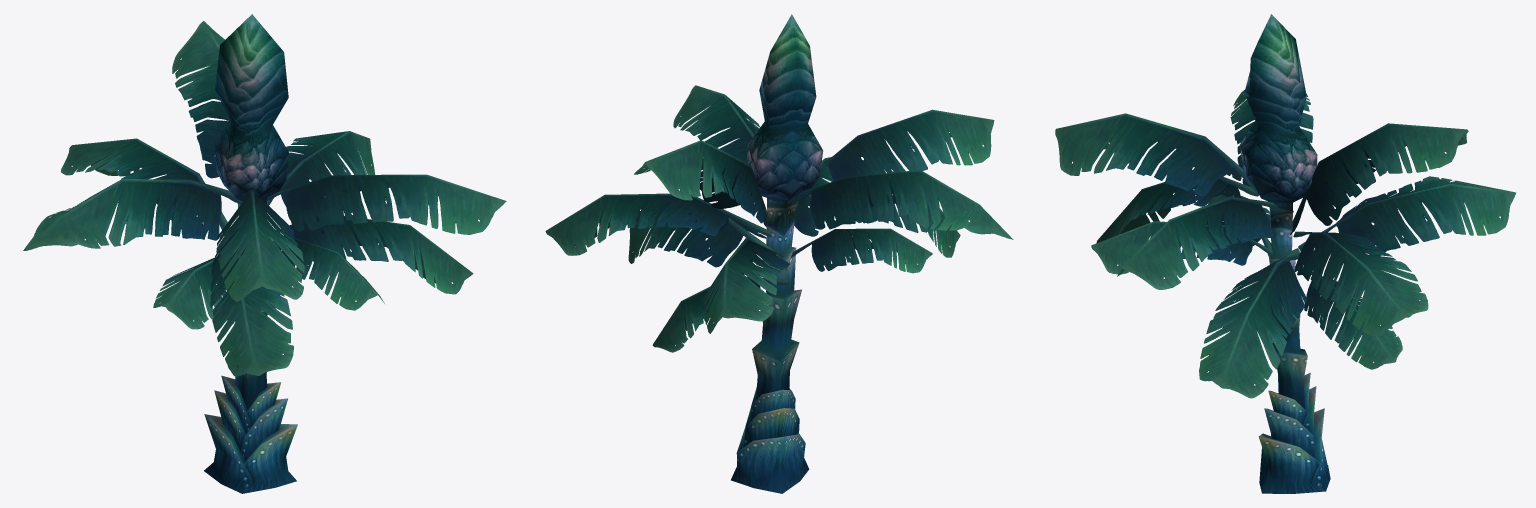
The model's file is environment_Tree_yeshu_01_a.FBX.
3 renders of one model, left to right at view 1: azimuth 30°, elevation 25°; view 2: azimuth 150°, elevation 25°; view 3: azimuth 270°, elevation 25°, orthographic. The views are drawn at different scales.
Parts seen in each view (by area): view 1: environment_Tree_yeshu_01_a1, environment_Tree_yeshu_01_a0; view 2: environment_Tree_yeshu_01_a1, environment_Tree_yeshu_01_a0; view 3: environment_Tree_yeshu_01_a1, environment_Tree_yeshu_01_a0.
Part boxes in pixels (x1=…): environment_Tree_yeshu_01_a1: x1=23, y1=21, x2=506, y2=376; environment_Tree_yeshu_01_a0: x1=204, y1=14, x2=297, y2=493; environment_Tree_yeshu_01_a1: x1=545, y1=85, x2=1013, y2=352; environment_Tree_yeshu_01_a0: x1=731, y1=14, x2=823, y2=493; environment_Tree_yeshu_01_a1: x1=1055, y1=89, x2=1515, y2=398; environment_Tree_yeshu_01_a0: x1=1239, y1=14, x2=1330, y2=493.
Bounding box in the file's own units: 771 × 799 × 740.
